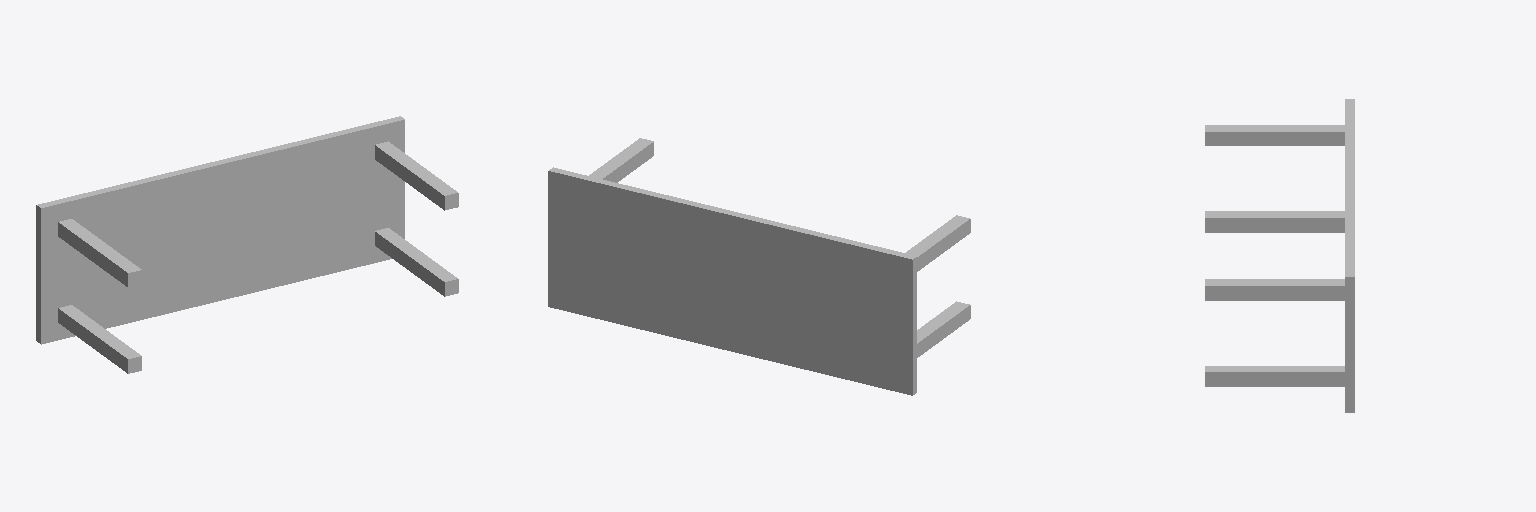
The model's file is random_table13.obj.
The picture shows the model from 3 angles: view 1: azimuth 30°, elevation 25°; view 2: azimuth 150°, elevation 25°; view 3: azimuth 270°, elevation 25°; orthographic projection.
Parts seen in each view (by area): view 1: Table_Cube.260, TableLeg1_Cube.262, TableLeg3_Cube.264, TableLeg0_Cube.261, TableLeg2_Cube.263; view 2: Table_Cube.260, TableLeg1_Cube.262, TableLeg3_Cube.264, TableLeg0_Cube.261; view 3: Table_Cube.260, TableLeg0_Cube.261, TableLeg3_Cube.264, TableLeg1_Cube.262, TableLeg2_Cube.263.
Boxes of the visible parts, box(x1,y1,x2,y2) form: Table_Cube.260: box(36, 116, 404, 344); TableLeg1_Cube.262: box(58, 219, 141, 287); TableLeg3_Cube.264: box(58, 305, 141, 373); TableLeg0_Cube.261: box(375, 141, 458, 210); TableLeg2_Cube.263: box(375, 228, 458, 296); Table_Cube.260: box(548, 167, 916, 395); TableLeg1_Cube.262: box(906, 215, 970, 271); TableLeg3_Cube.264: box(917, 301, 970, 357); TableLeg0_Cube.261: box(589, 138, 653, 182); Table_Cube.260: box(1345, 99, 1354, 412); TableLeg0_Cube.261: box(1205, 279, 1344, 300); TableLeg3_Cube.264: box(1205, 211, 1344, 232); TableLeg1_Cube.262: box(1205, 125, 1344, 145); TableLeg2_Cube.263: box(1205, 366, 1344, 386).
Size of the model in its own units: 13.68 by 4.89 by 4.86.